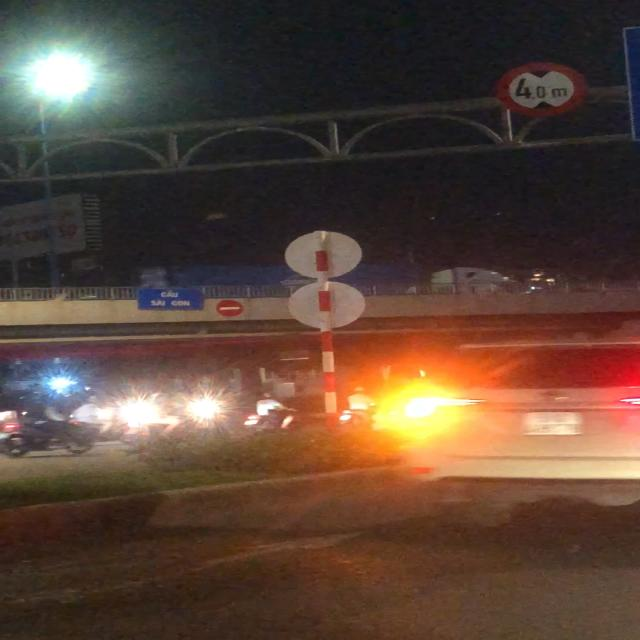Bien bao cam di nguoc chieu: (213, 298, 250, 319)
Bien bao han che chieu cao: (493, 61, 593, 117)
